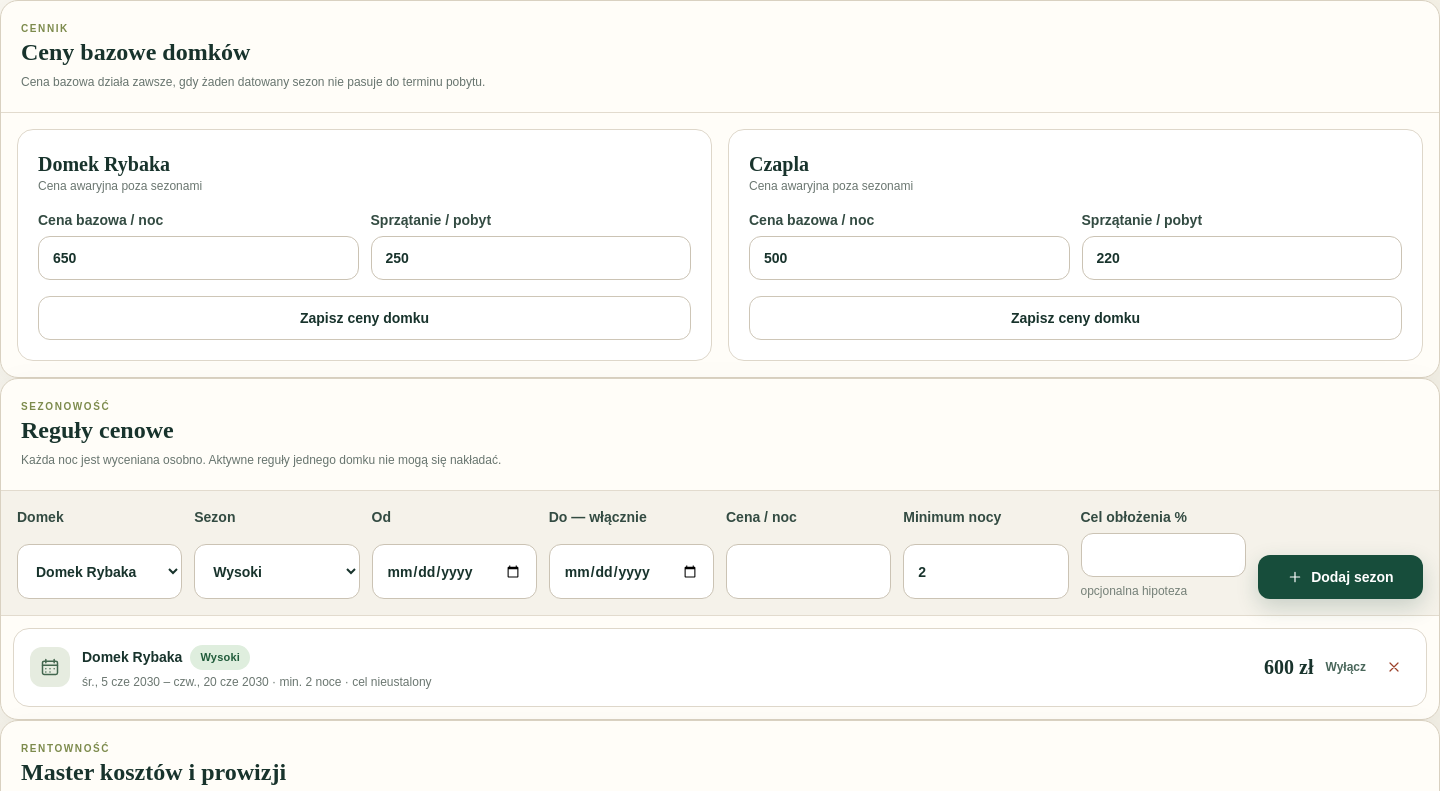
Test case: PricingSettings — trwałe reguły cenowe › pokazuje błąd przy konkretnym polu i blokuje nakładającą się regułę
Type "2030-06-01" into the date field labelled "Od" at point(454, 572), box [372, 544, 537, 599]
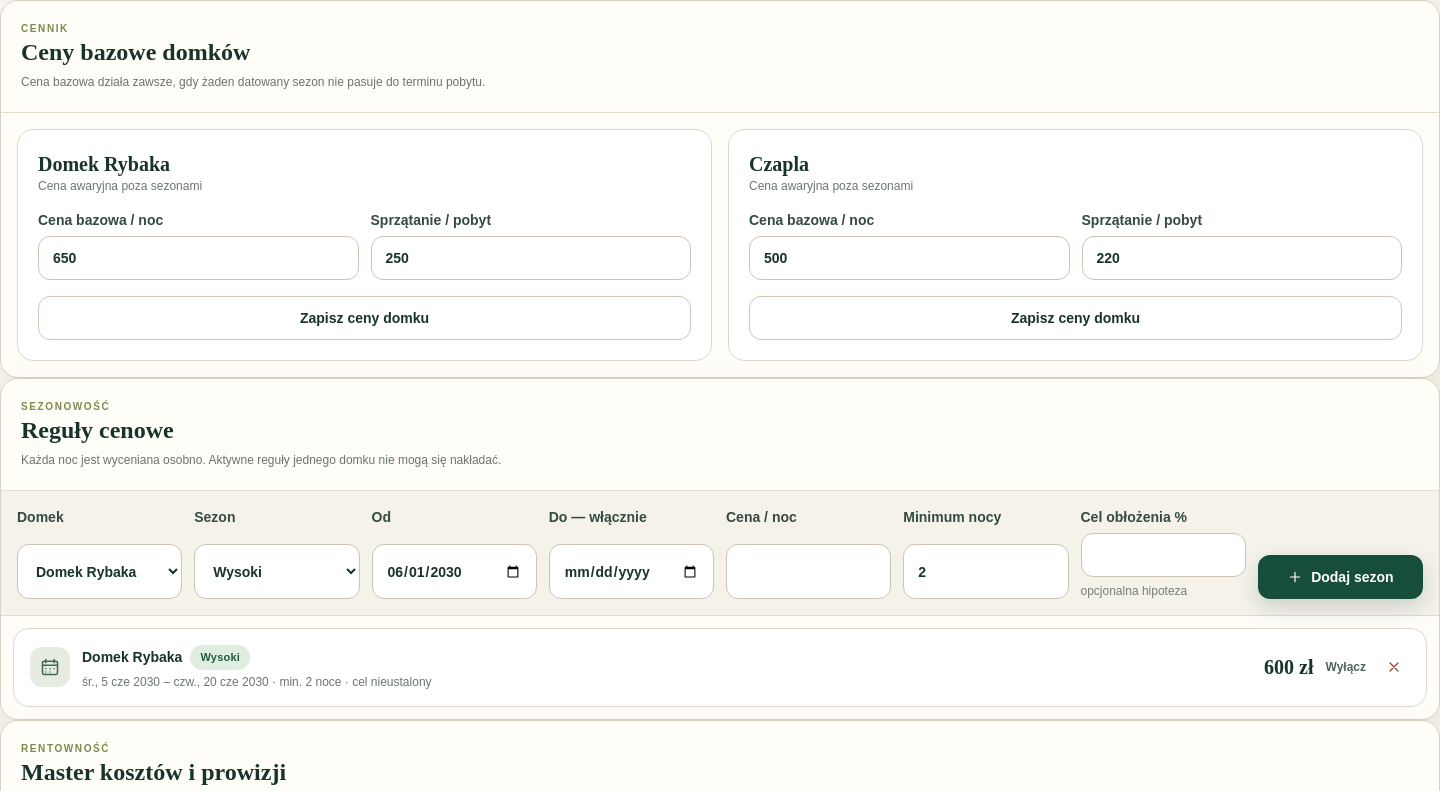
Type "2030-06-10" into the date field labelled "Do — włącznie" at point(631, 572), box [549, 544, 714, 599]
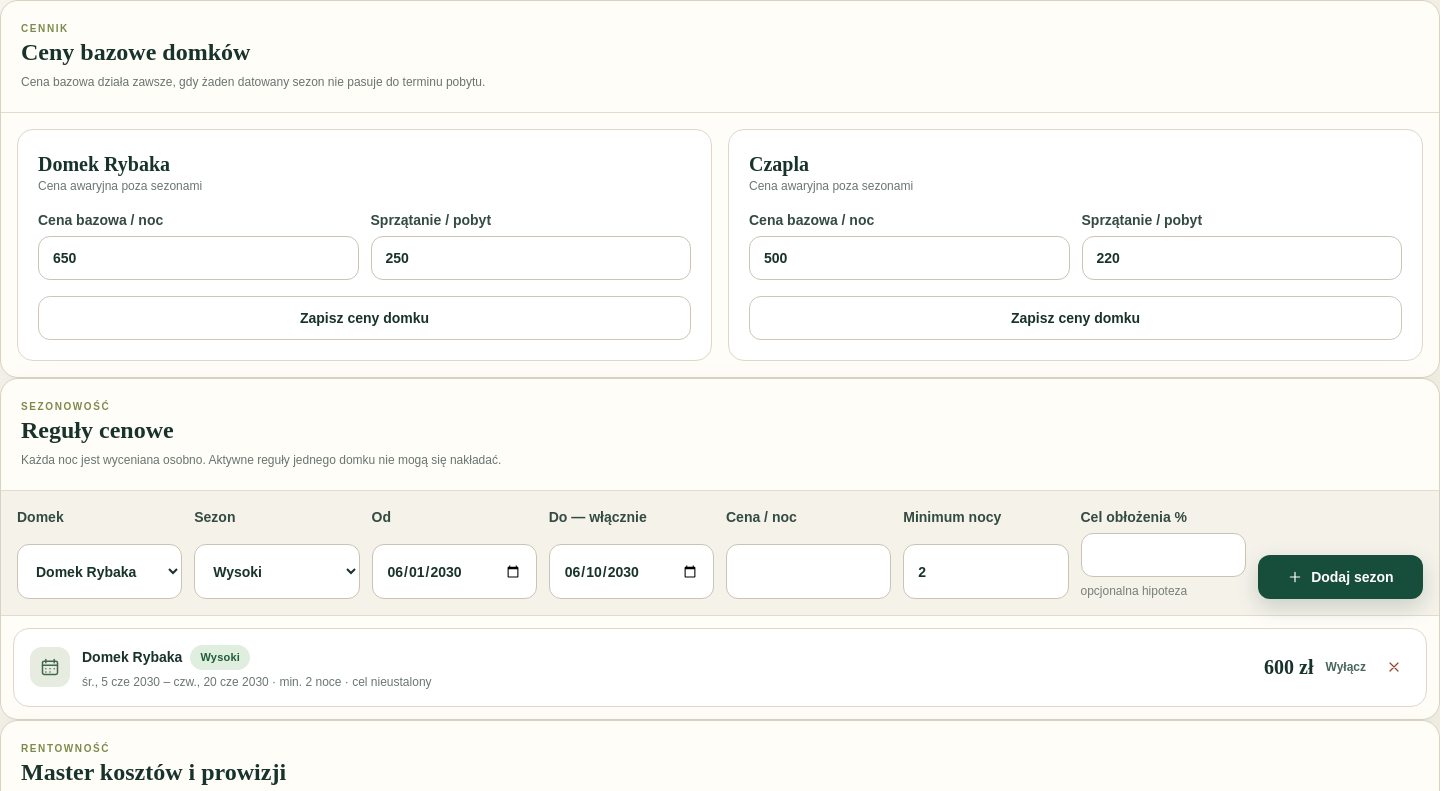
Type "620" into the number field labelled "Cena / noc" at point(809, 572), box [726, 544, 891, 599]
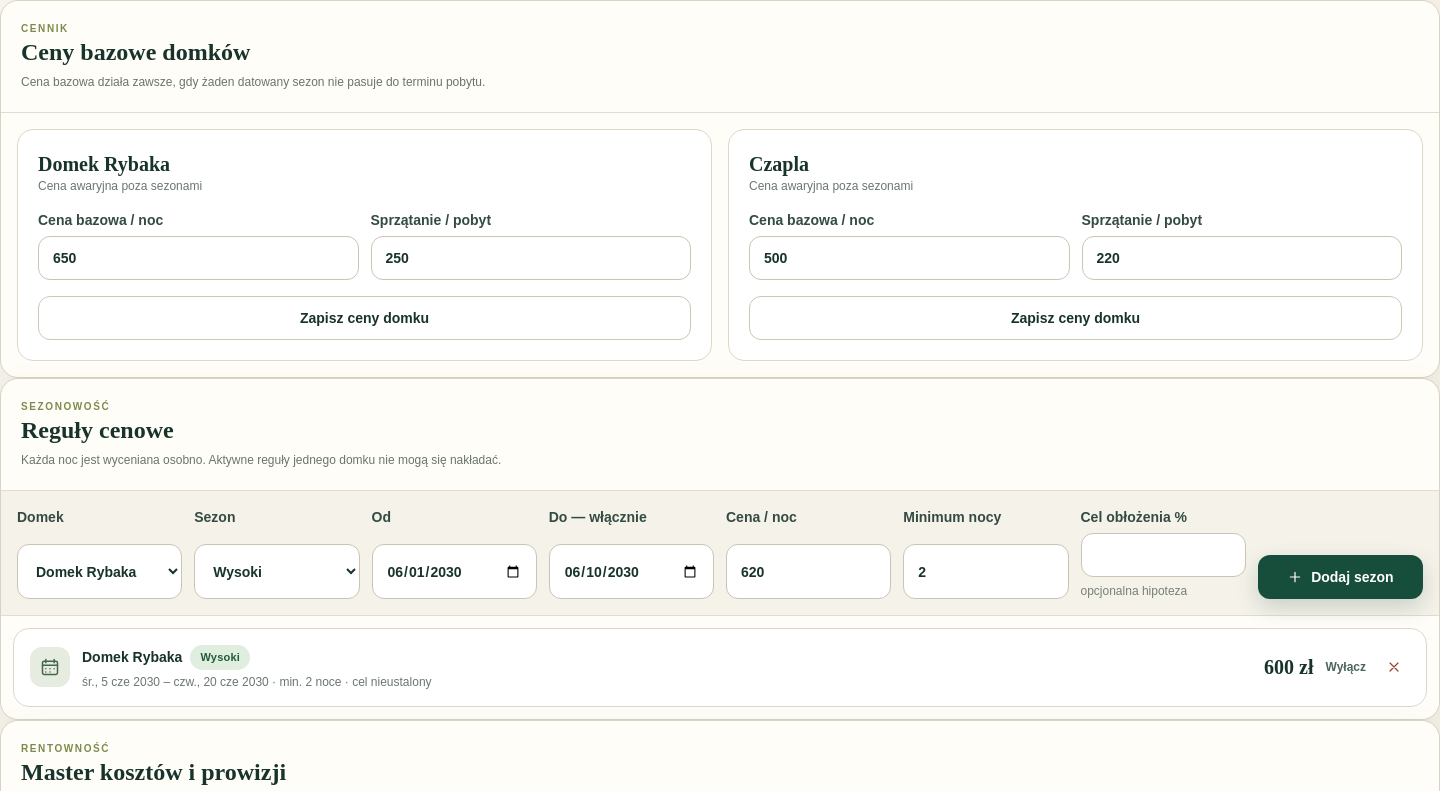
Click the button "Dodaj sezon" at point(1340, 577), box [1258, 555, 1423, 599]
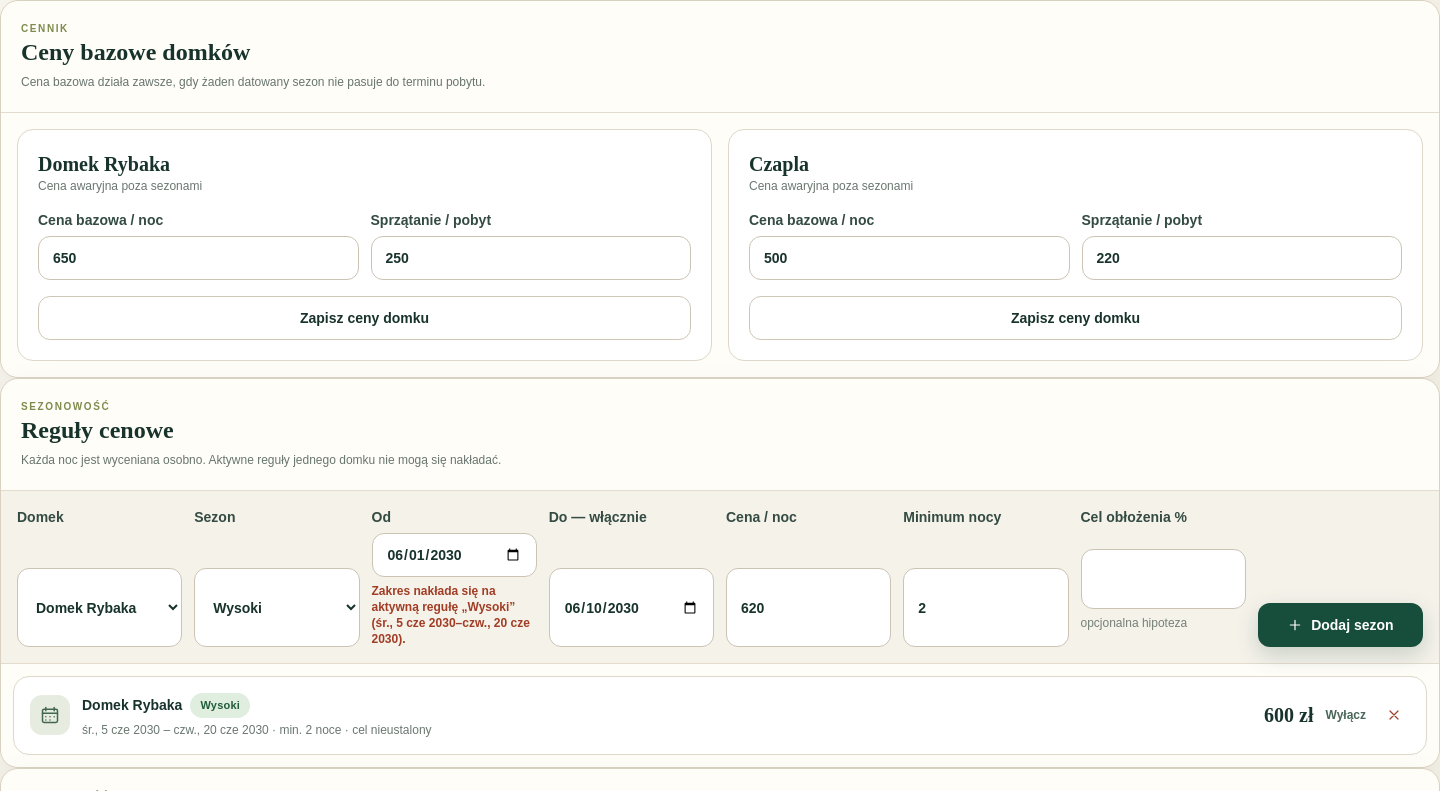
Expected: the text "Zakres nakłada się na aktywną regułę" is shown, [372, 584, 530, 646]
